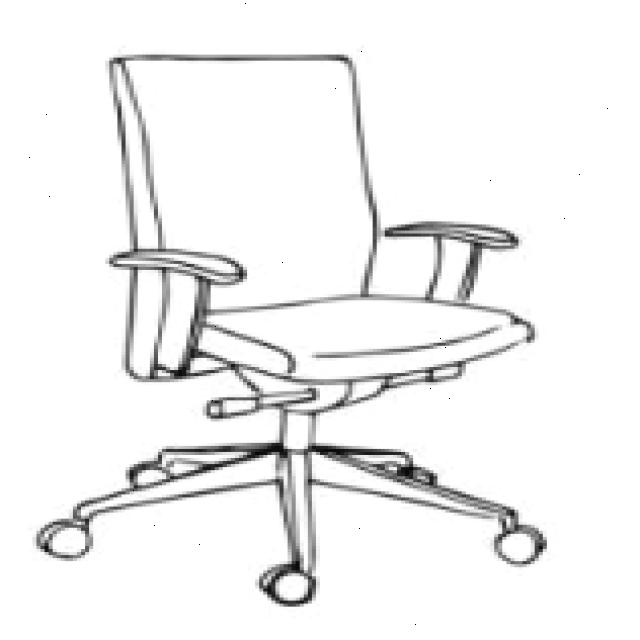5_Star_Base: (31, 437, 557, 613)
Armrest: (90, 237, 260, 385), (366, 215, 536, 309)
Backrest: (99, 52, 386, 382)
Caster_Wheel: (243, 555, 332, 616), (26, 507, 99, 567), (481, 522, 555, 572), (112, 454, 184, 493)
Control_Mechanism: (196, 388, 322, 427)
Seat: (196, 292, 536, 381)
